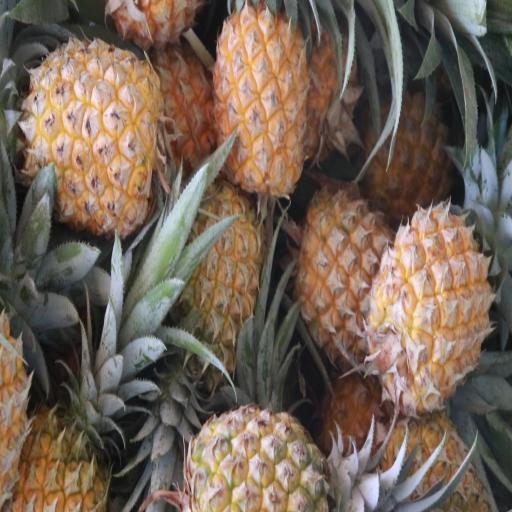------------------------------: (189, 410, 352, 512), (298, 189, 392, 359)
Pineapple - v8 v1: (29, 37, 157, 229), (374, 210, 488, 409), (216, 6, 309, 198), (179, 185, 260, 379), (368, 86, 456, 217)
